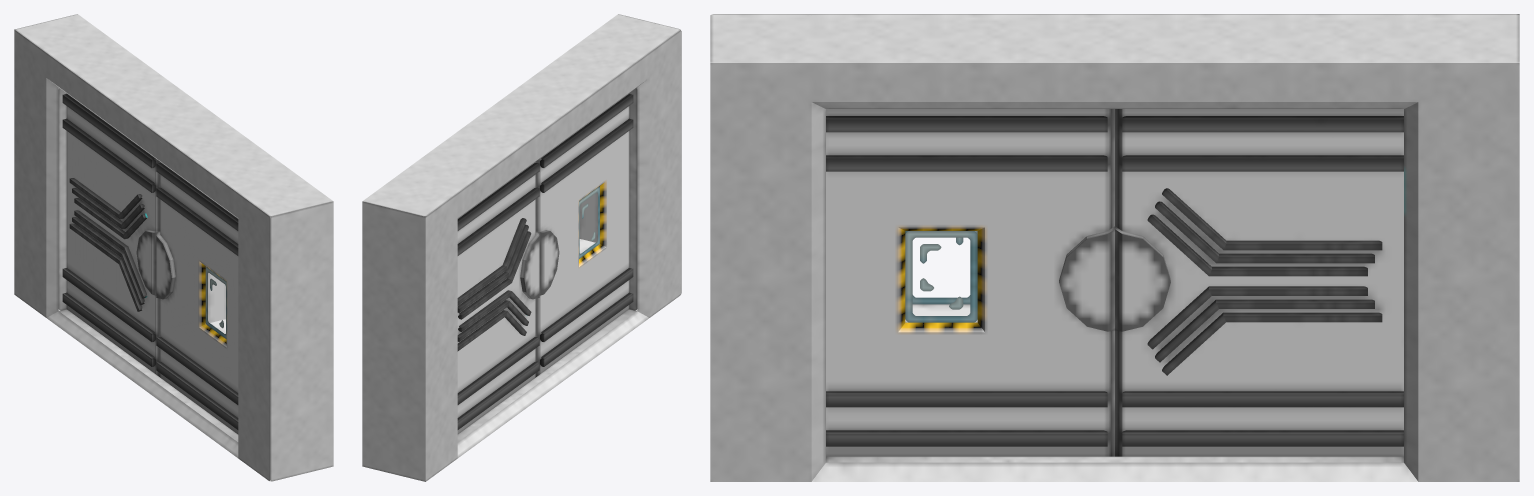
File: sliding_blast_door.obj
3 renders of one model, left to right at view 1: azimuth 30°, elevation 25°; view 2: azimuth 150°, elevation 25°; view 3: azimuth 270°, elevation 25°, orthographic. The views are drawn at different scales.
Visible parts, largest first — view 1: Frame, RightDoor, LeftDoor, RightLock, LeftLock; view 2: Frame, LeftDoor, RightDoor, LeftLock, RightLock; view 3: Frame, RightDoor, LeftDoor, RightLock, LeftLock.
Part boxes in pixels (left/top/right/bottom): Frame: left=14, top=14, right=333, bottom=481; RightDoor: left=62, top=93, right=160, bottom=377; LeftDoor: left=156, top=162, right=271, bottom=434; RightLock: left=136, top=230, right=159, bottom=295; LeftLock: left=156, top=232, right=205, bottom=299; Frame: left=362, top=14, right=681, bottom=481; LeftDoor: left=535, top=93, right=633, bottom=377; RightDoor: left=424, top=162, right=539, bottom=434; LeftLock: left=536, top=230, right=559, bottom=295; RightLock: left=520, top=232, right=539, bottom=299; Frame: left=710, top=14, right=1519, bottom=481; RightDoor: left=1115, top=109, right=1403, bottom=456; LeftDoor: left=826, top=109, right=1114, bottom=456; RightLock: left=1115, top=226, right=1170, bottom=331; LeftLock: left=1059, top=226, right=1114, bottom=331.
Size of the model in its own units: 1 by 4 by 7.
